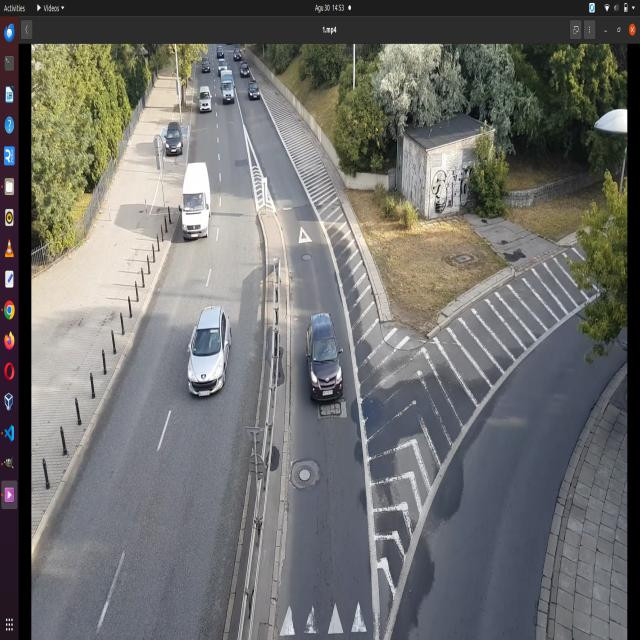person_with_seatbelt: (209, 324, 221, 351)
